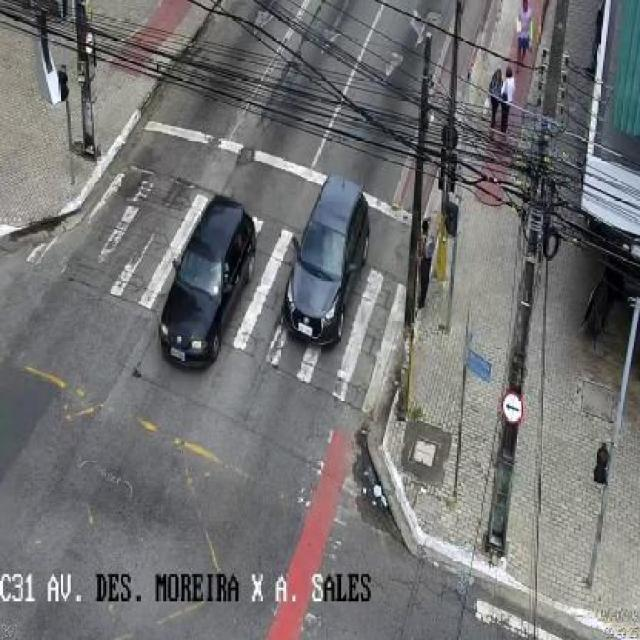Car: (156, 193, 260, 371), (280, 171, 371, 347)
